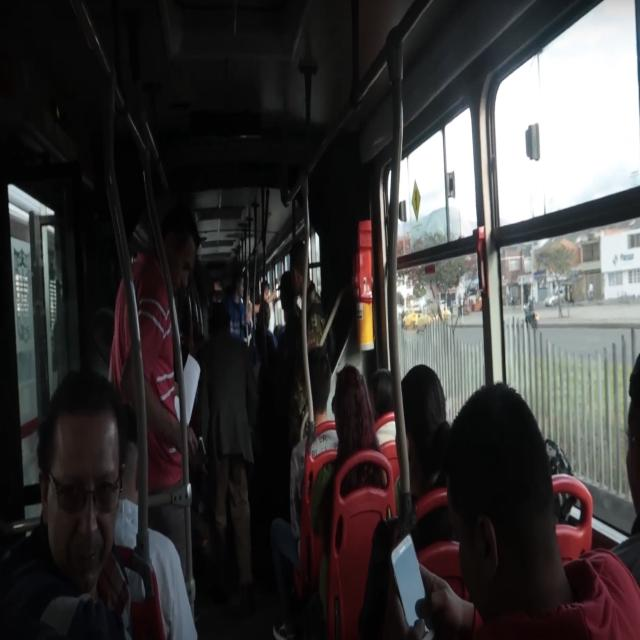Persona: (385, 383, 640, 640), (0, 372, 137, 640), (190, 302, 258, 589), (271, 346, 337, 640), (312, 365, 379, 601), (132, 241, 182, 493), (401, 365, 449, 500), (281, 241, 326, 355), (160, 202, 199, 290), (110, 280, 135, 405), (150, 505, 185, 560), (226, 277, 254, 343), (413, 507, 452, 546), (341, 464, 386, 496), (369, 368, 394, 418)
